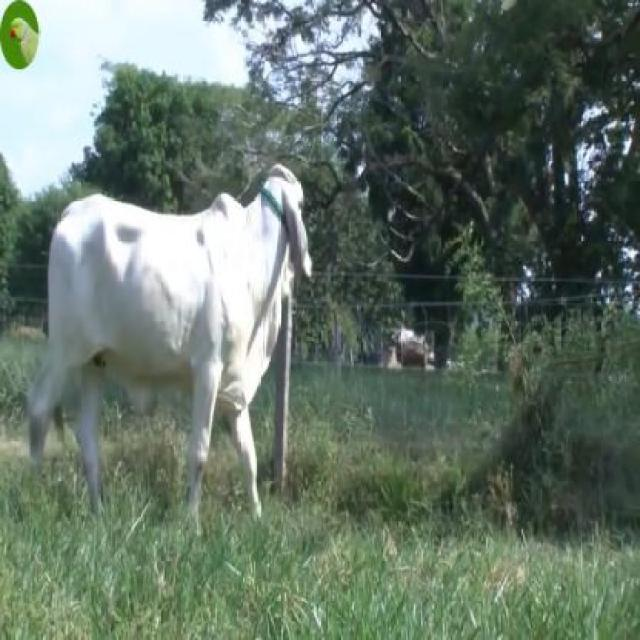Cow: (31, 162, 312, 549)
